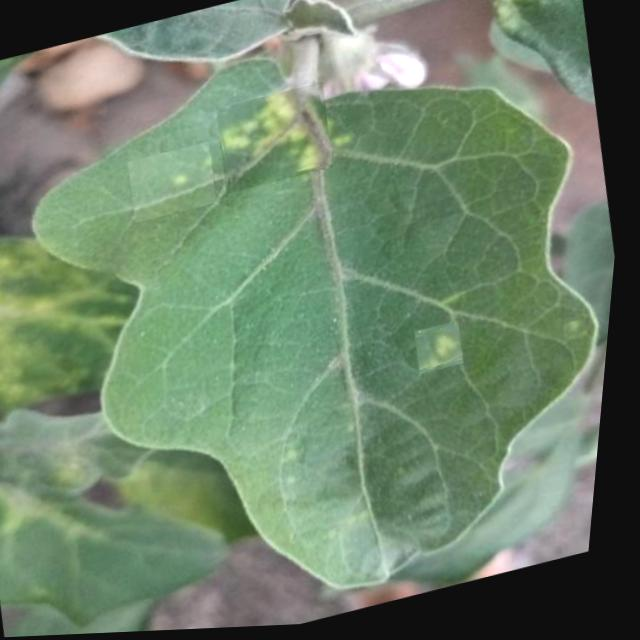leaf_spot: (212, 84, 342, 196), (126, 143, 224, 224), (417, 324, 473, 378), (567, 318, 595, 345)
